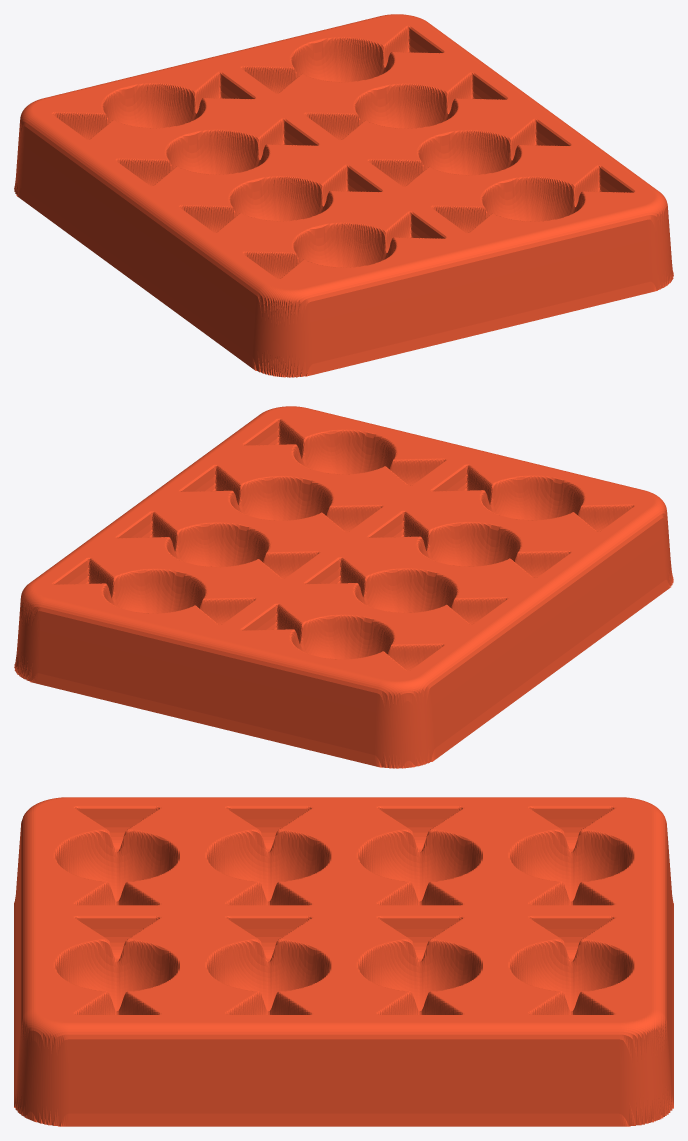
The model's file is mold.glb.
3 views of the same model, one above another, from view 1: azimuth 30°, elevation 25°; view 2: azimuth 150°, elevation 25°; view 3: azimuth 270°, elevation 25° (orthographic). The views are drawn at different scales.
Parts seen in each view (by area): view 1: geometry_0; view 2: geometry_0; view 3: geometry_0.
Part boxes in pixels (box(x1,y1,x2,y2)): geometry_0: box(14, 14, 673, 377); geometry_0: box(14, 406, 673, 768); geometry_0: box(14, 797, 673, 1126).
Bounding box in the file's own units: 0.0956 × 0.0175 × 0.11.
